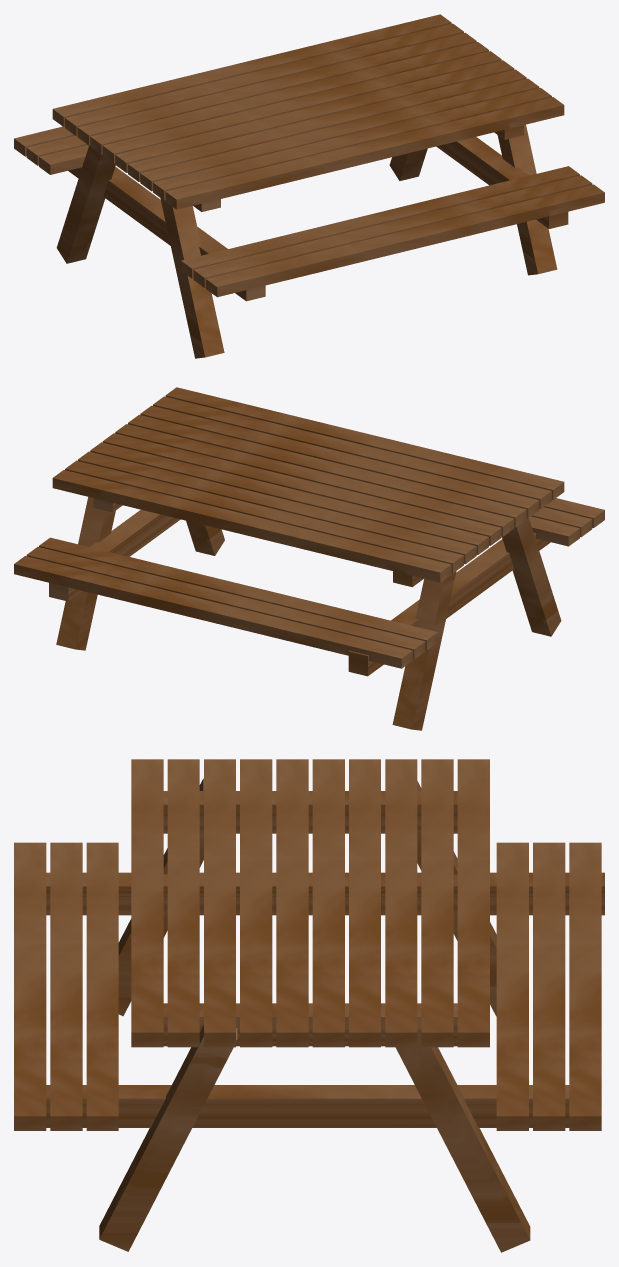
The model's file is table.gltf.
3 views of the same model, one above another, from view 1: azimuth 30°, elevation 25°; view 2: azimuth 150°, elevation 25°; view 3: azimuth 270°, elevation 25° (orthographic). The views are drawn at different scales.
Visible parts, largest first — view 1: table; view 2: table; view 3: table.
Boxes of the visible parts, x1,y1,x2,y2 form: table: (14,14,604,358); table: (14,387,604,730); table: (14,759,604,1252).
Size of the model in its own units: 20.08 by 7.96 by 18.33.
Materials: 1 (1 with a texture image).
